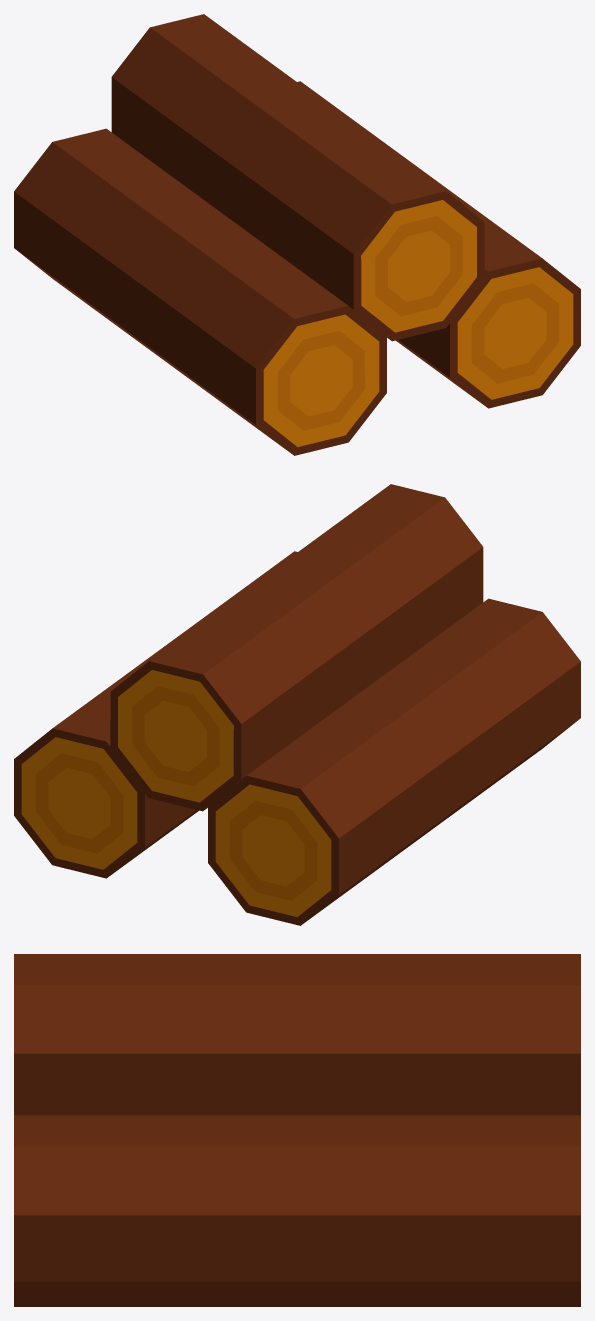
Rendered from Small Log_26.fbx.
3 views of the same model, one above another, from view 1: azimuth 30°, elevation 25°; view 2: azimuth 150°, elevation 25°; view 3: azimuth 270°, elevation 25° (orthographic). The views are drawn at different scales.
Parts seen in each view (by area): view 1: Circle.460; view 2: Circle.460; view 3: Circle.460.
Part boxes in pixels (x1=…): Circle.460: x1=14, y1=14, x2=580, y2=455; Circle.460: x1=14, y1=484, x2=580, y2=925; Circle.460: x1=14, y1=954, x2=580, y2=1306.
Size of the model in its own units: 18.25 by 12.23 by 23.54.
